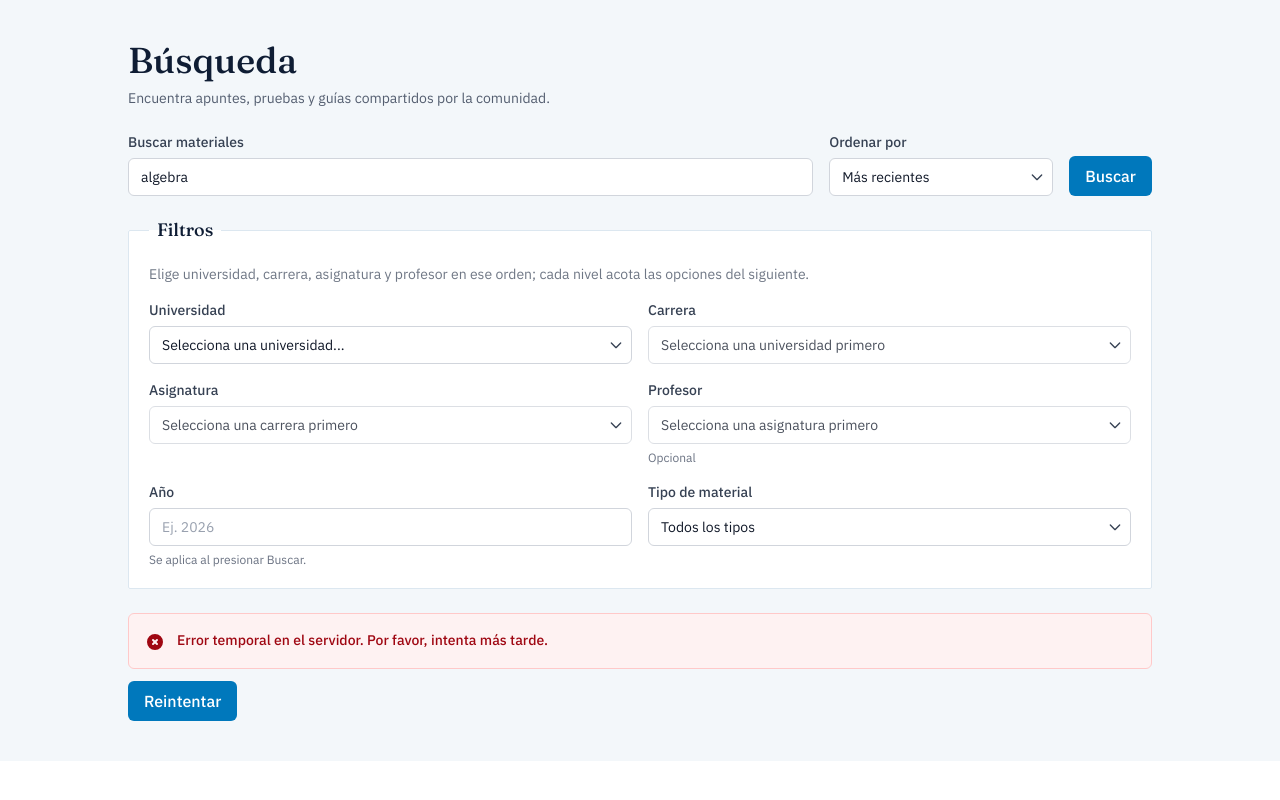
it: SearchPage › muestra el error y permite reintentar
Expected: the message shows "Error temporal en el servidor", [177, 631, 548, 649]
Click the button "Reintentar" at (183, 701), box [128, 681, 237, 721]
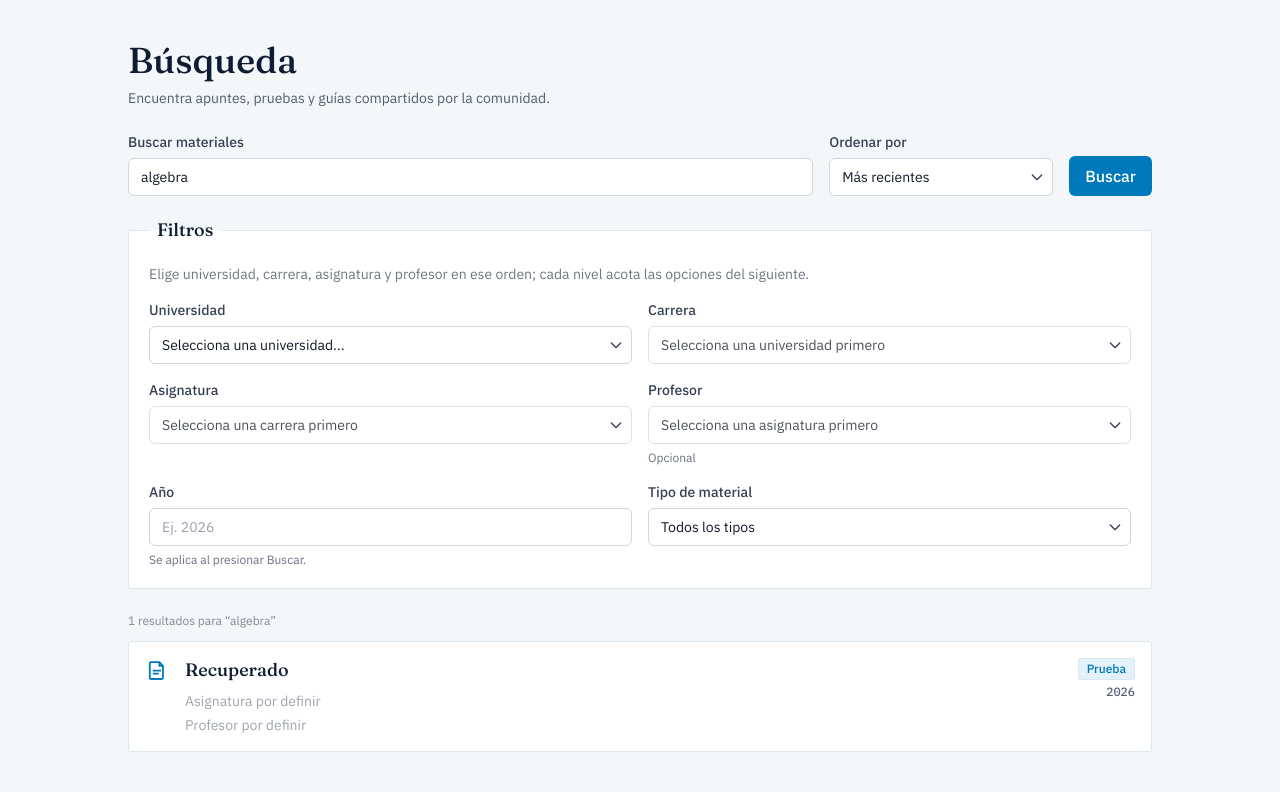
Expected: the heading "Recuperado" is shown, [185, 658, 289, 681]
